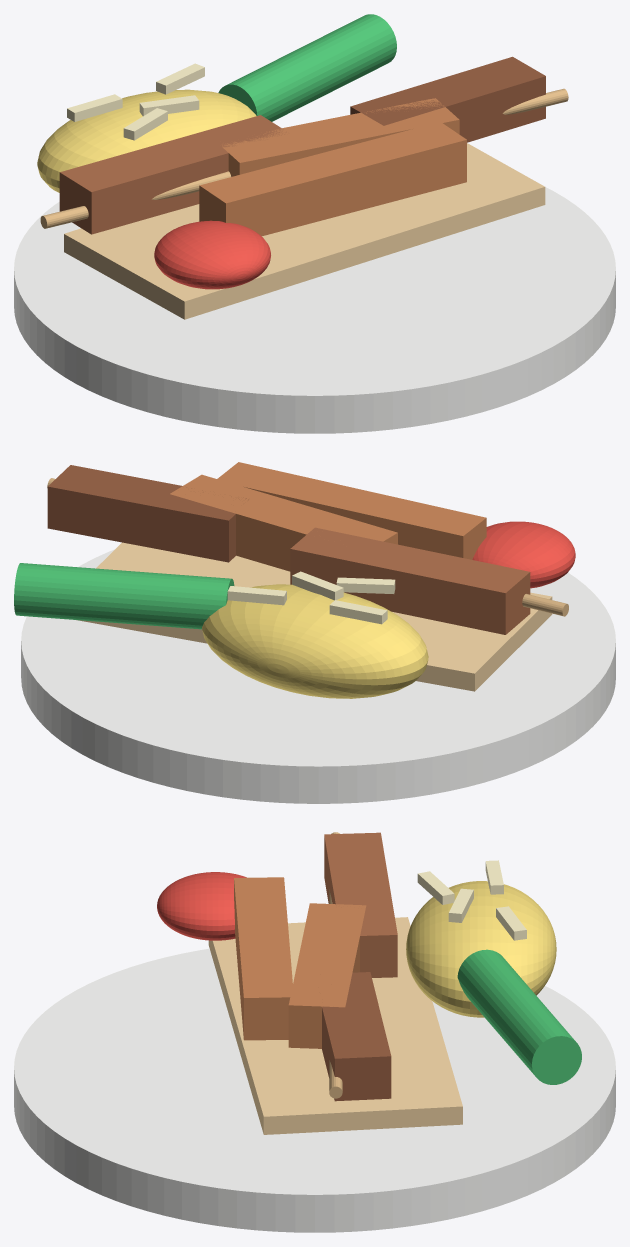
Rendered from kebap.glb.
3 views of the same model, one above another, from view 1: azimuth 30°, elevation 25°; view 2: azimuth 150°, elevation 25°; view 3: azimuth 270°, elevation 25° (orthographic).
Visible parts, largest first — view 1: white_plate, lavash_base, meat_4, meat_1, green_pepper, meat_3, rice_mound, meat_2, tomato, wooden_skewer, rice_grain_0, rice_grain_1 (+2 smaller); view 2: white_plate, rice_mound, meat_1, meat_3, lavash_base, green_pepper, meat_4, meat_2, tomato, rice_grain_2, rice_grain_0, rice_grain_3 (+2 smaller); view 3: white_plate, lavash_base, rice_mound, meat_4, green_pepper, meat_2, meat_1, meat_3, tomato, rice_grain_3, rice_grain_2, rice_grain_1.
Part boxes in pixels (x1,y1,x2,y2): white_plate: (14,187,615,433); lavash_base: (64,143,545,319); meat_4: (199,122,466,236); meat_1: (59,115,286,234); green_pepper: (218,14,396,121); meat_3: (350,56,545,142); rice_mound: (37,89,256,192); meat_2: (222,98,459,176); tomato: (154,220,270,289); wooden_skewer: (40,88,568,228); rice_grain_0: (67,94,122,121); rice_grain_1: (139,95,199,116); white_plate: (21,549,615,803); rice_mound: (202,584,428,698); meat_1: (290,527,530,634); meat_3: (47,465,248,562); lavash_base: (76,542,552,691); green_pepper: (14,563,234,629); meat_4: (217,462,486,559); meat_2: (170,474,397,571); tomato: (472,521,575,588); rice_grain_2: (227,586,286,605); rice_grain_0: (329,600,387,624); rice_grain_3: (336,577,395,593); white_plate: (14,948,615,1232); lavash_base: (208,917,462,1134); rice_mound: (406,881,556,1017); meat_4: (234,877,292,1040); green_pepper: (457,949,581,1084); meat_2: (288,903,366,1048); meat_1: (324,832,397,977); meat_3: (322,972,391,1101); tomato: (157,872,246,940); rice_grain_3: (417,871,454,904); rice_grain_2: (496,906,526,940); rice_grain_1: (448,888,473,922).
Size of the model in its own units: 0.36 by 0.1115 by 0.36.
